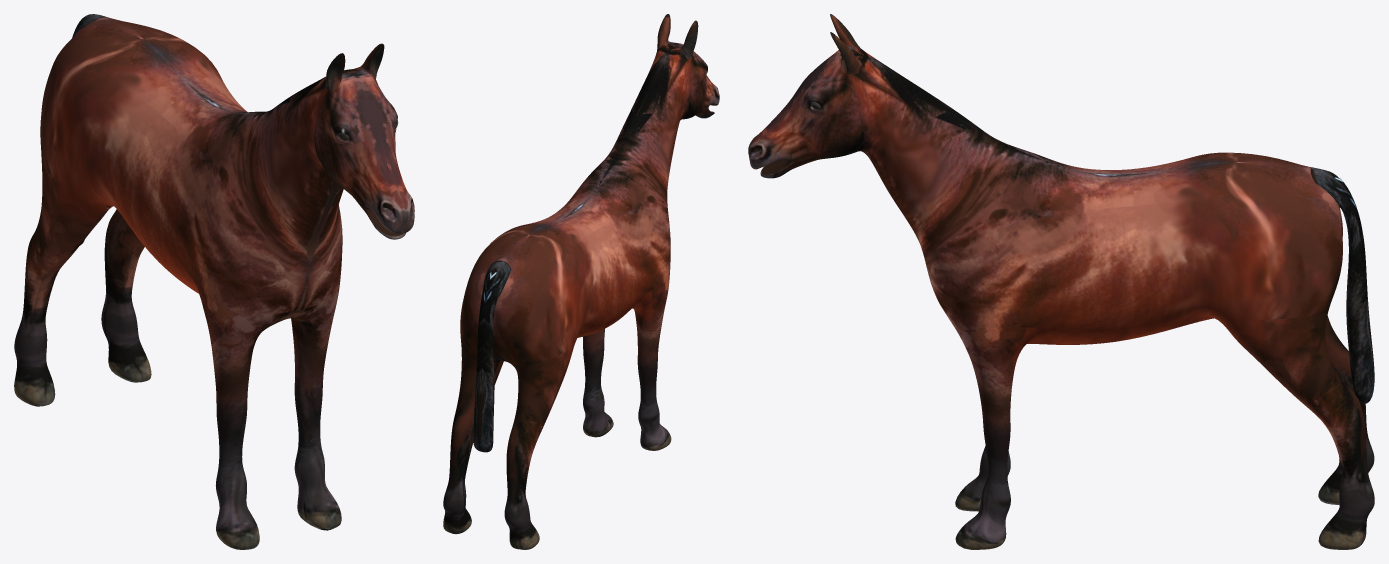
File: horse.glb
The picture shows the model from 3 angles, left to right: view 1: azimuth 30°, elevation 25°; view 2: azimuth 150°, elevation 25°; view 3: azimuth 270°, elevation 25°; orthographic projection. The views are drawn at different scales.
Visible parts, largest first — view 1: 10026_Horse_v01-it2.004; view 2: 10026_Horse_v01-it2.004; view 3: 10026_Horse_v01-it2.004.
Part boxes in pixels (bbox=[...]): 10026_Horse_v01-it2.004: bbox=[14, 14, 414, 549]; 10026_Horse_v01-it2.004: bbox=[443, 14, 719, 549]; 10026_Horse_v01-it2.004: bbox=[748, 14, 1374, 549].
Size of the model in its own units: 10.59 by 39.61 by 44.59.
1 material, 1 textured.
